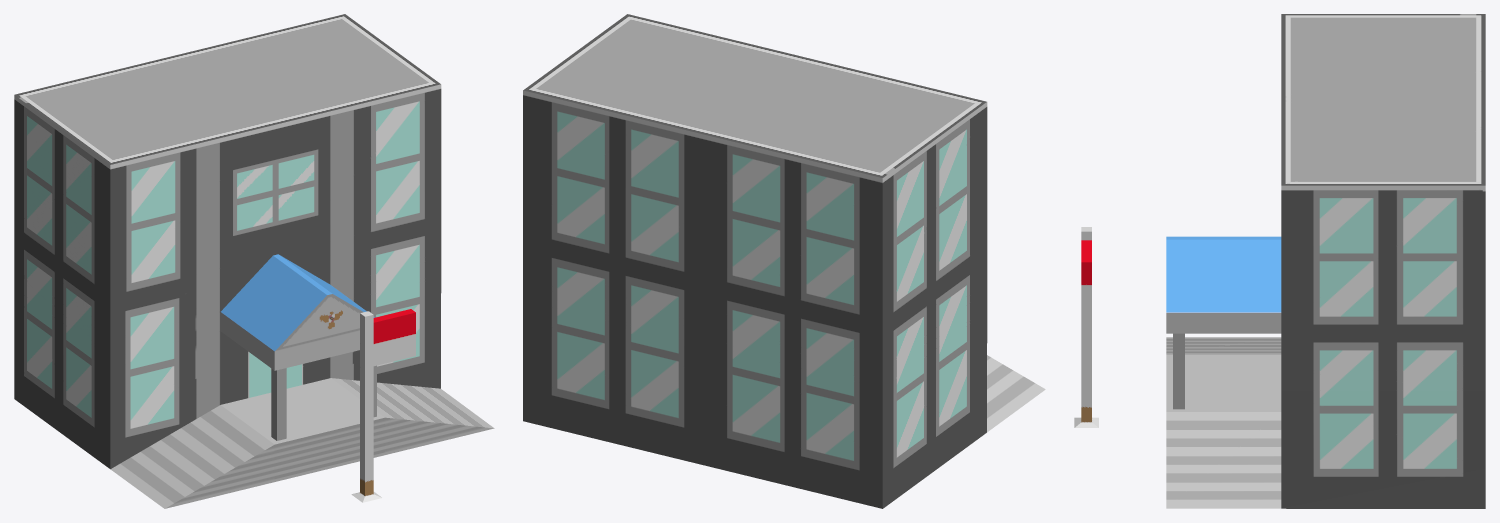
Rendered from GovernmentOffice_noGround.fbx.
The picture shows the model from 3 angles, left to right: view 1: azimuth 30°, elevation 25°; view 2: azimuth 150°, elevation 25°; view 3: azimuth 270°, elevation 25°; orthographic projection. The views are drawn at different scales.
Visible parts, largest first — view 1: GovernmentOffice; view 2: GovernmentOffice; view 3: GovernmentOffice.
Part boxes in pixels (x1=…): GovernmentOffice: x1=14, y1=14, x2=494, y2=508; GovernmentOffice: x1=523, y1=14, x2=1045, y2=508; GovernmentOffice: x1=1074, y1=14, x2=1485, y2=508.
Size of the model in its own units: 398 by 350 by 403.
